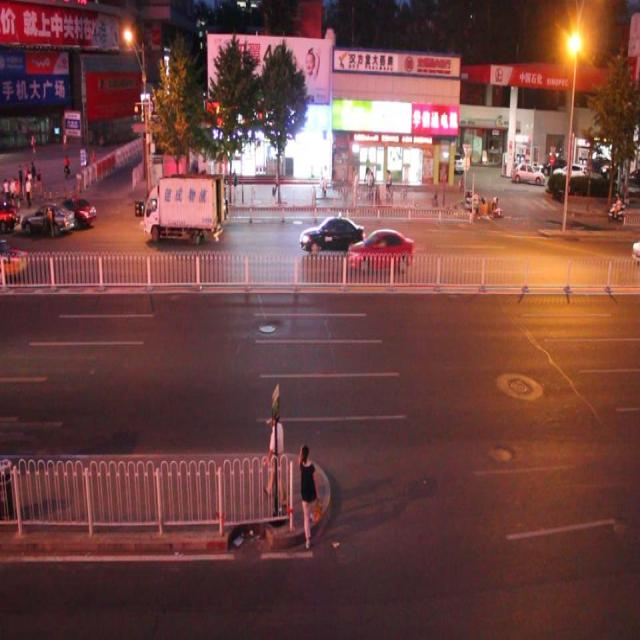bus: (143, 176, 225, 242)
car: (348, 226, 413, 274), (300, 213, 366, 255), (17, 197, 72, 238), (58, 193, 96, 228)
